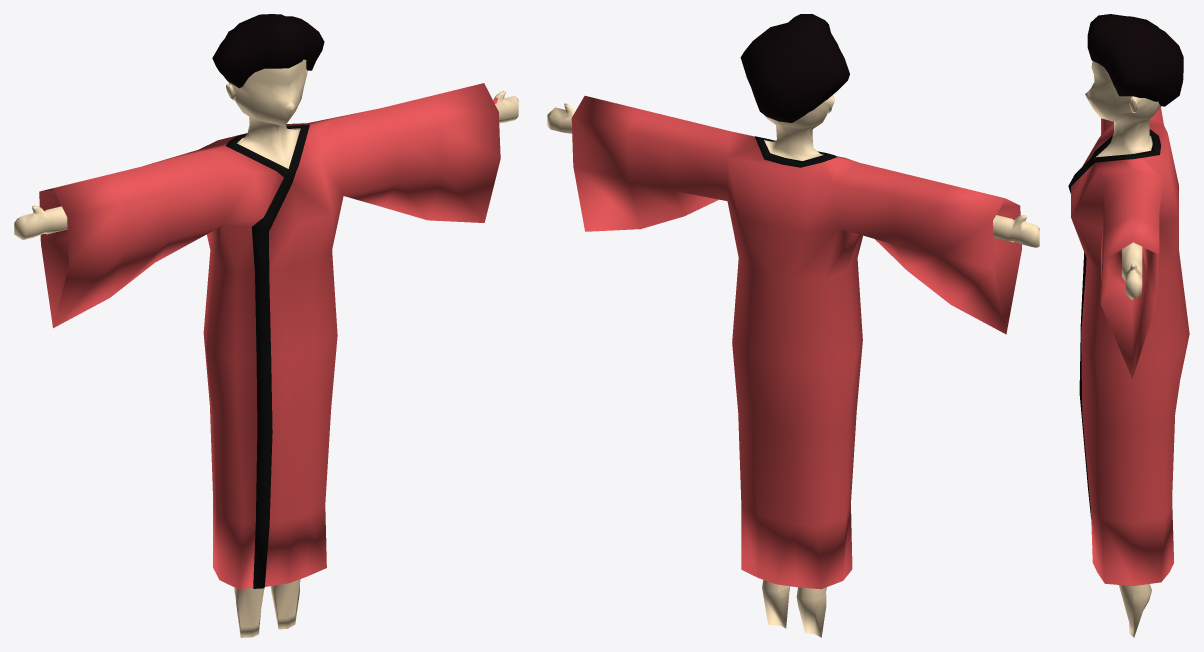
Rendered from red.fbx.
3 renders of one model, left to right at view 1: azimuth 30°, elevation 25°; view 2: azimuth 150°, elevation 25°; view 3: azimuth 270°, elevation 25°, orthographic. The views are drawn at different scales.
Parts seen in each view (by area): view 1: hair; view 2: hair; view 3: hair.
Boxes of the visible parts, left/top/right/bottom form: hair: left=14, top=14, right=518, bottom=637; hair: left=547, top=14, right=1039, bottom=637; hair: left=1068, top=14, right=1189, bottom=637.
Bounding box in the file's own units: 218 × 257 × 46.46.
